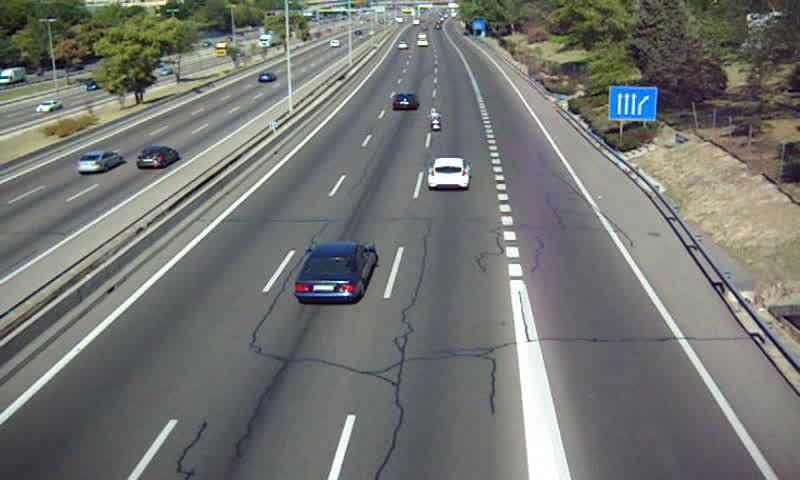car: (293, 242, 375, 304), (427, 157, 469, 191), (391, 93, 420, 112)
motorcycle: (428, 107, 444, 133)
